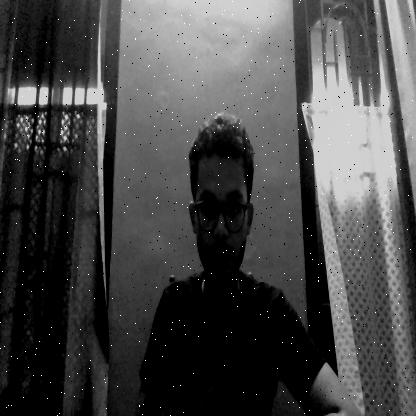Normal: (187, 120, 254, 282)
